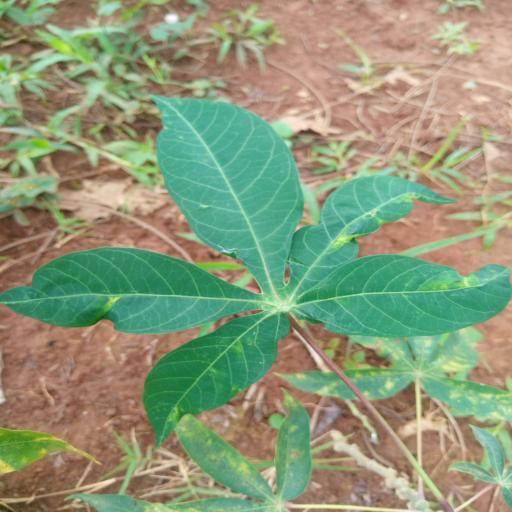Cassava_Mosaic: (8, 91, 512, 431)
